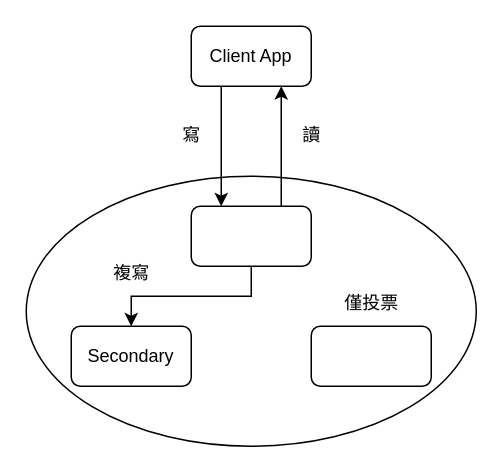
Image size: 503x473. Some labels were removed from this diagram. The centre of each missing label's shape, as x and y in pixels:
"Arbiter" belongs at (x=370, y=355).
"Primary" belongs at (x=250, y=235).
